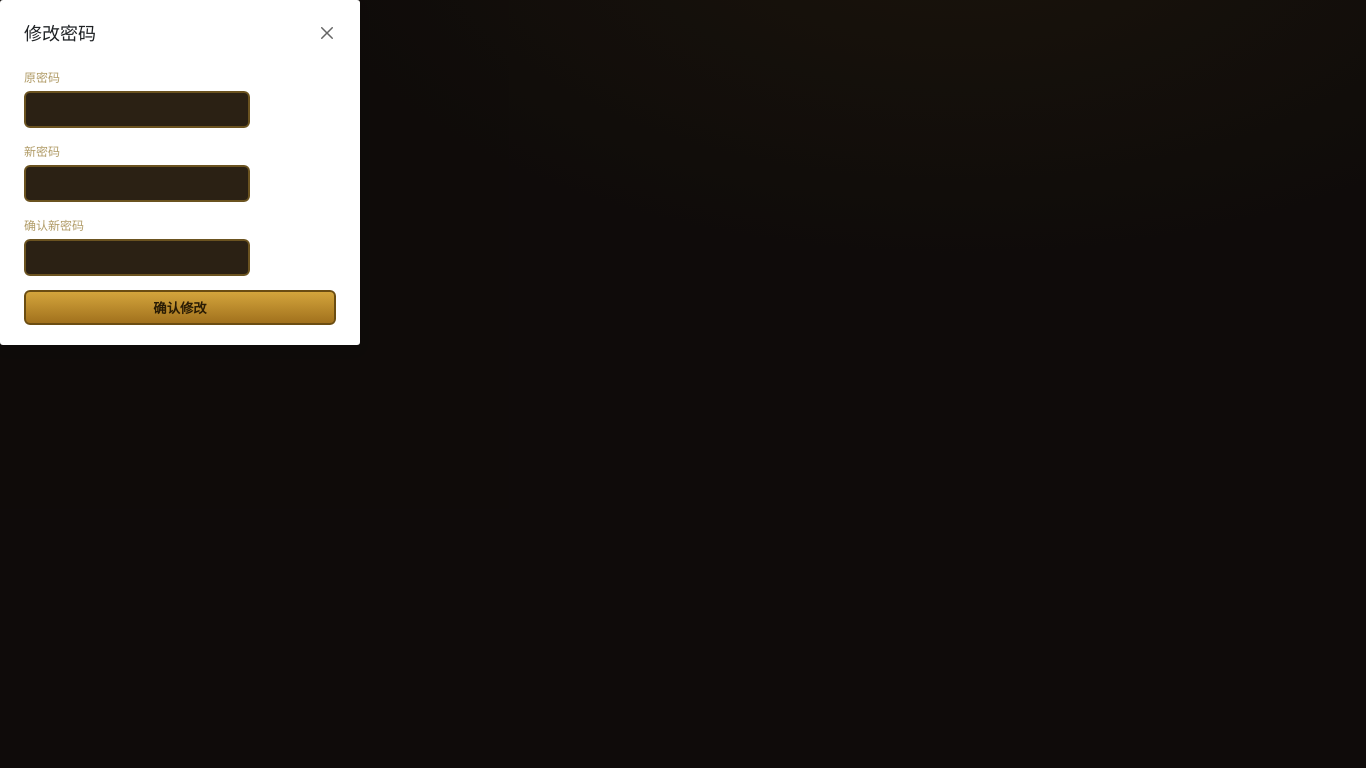
ChangePasswordModal › 两次密码不一致报错不调接口
Type "secret1" into the password field below "原密码".
click(137, 110); type("secret1")  # box [24, 91, 250, 128]
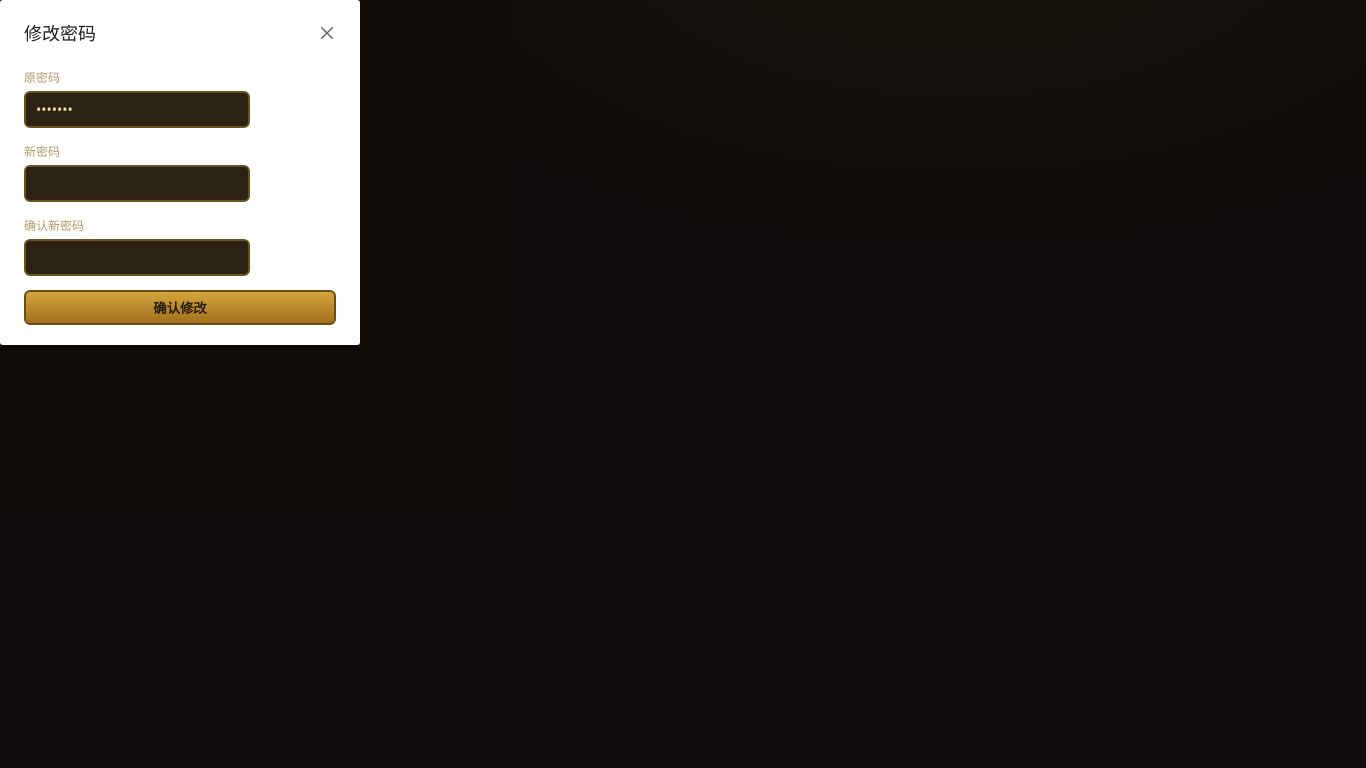
Type "abcdef" into the 2nd password field.
click(137, 184); type("abcdef")  # box [24, 165, 250, 202]
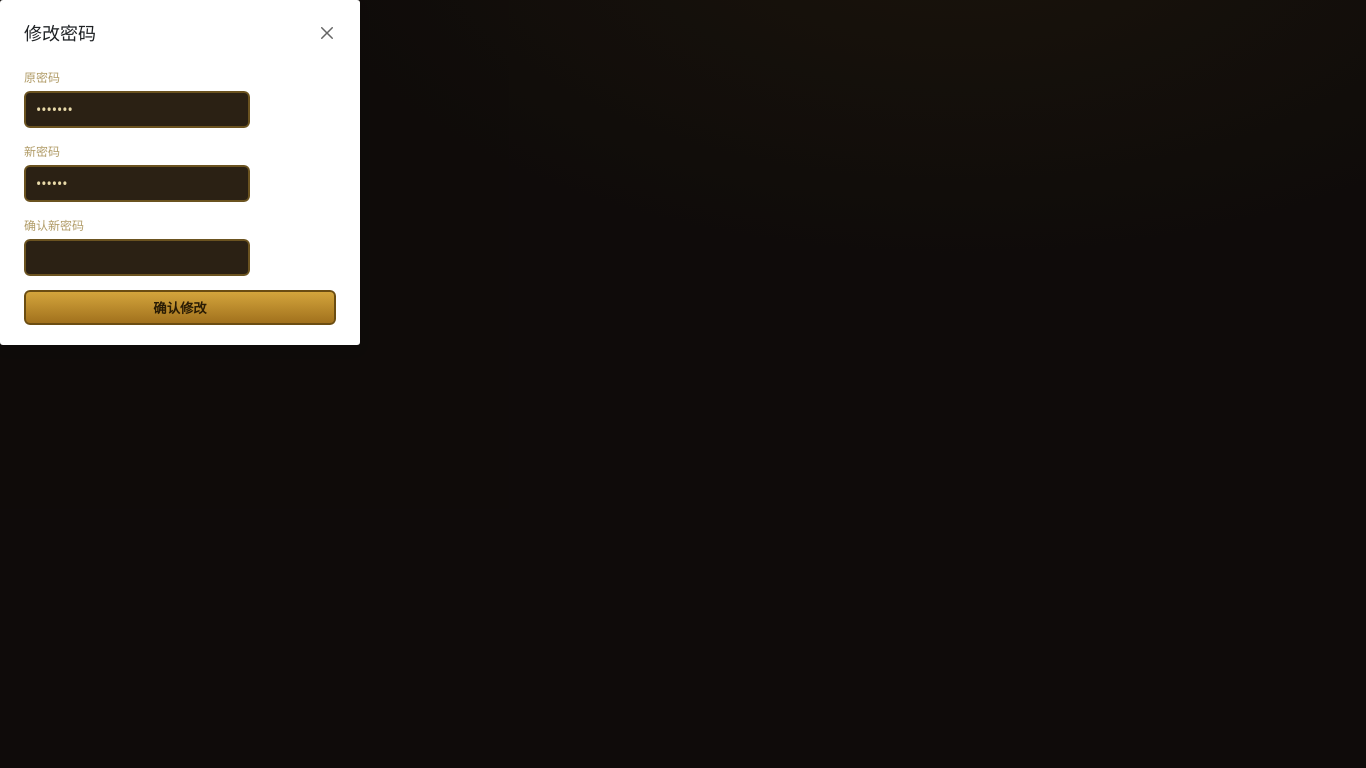
Type "abcdefg" into the password field below "确认新密码".
click(137, 258); type("abcdefg")  # box [24, 239, 250, 276]
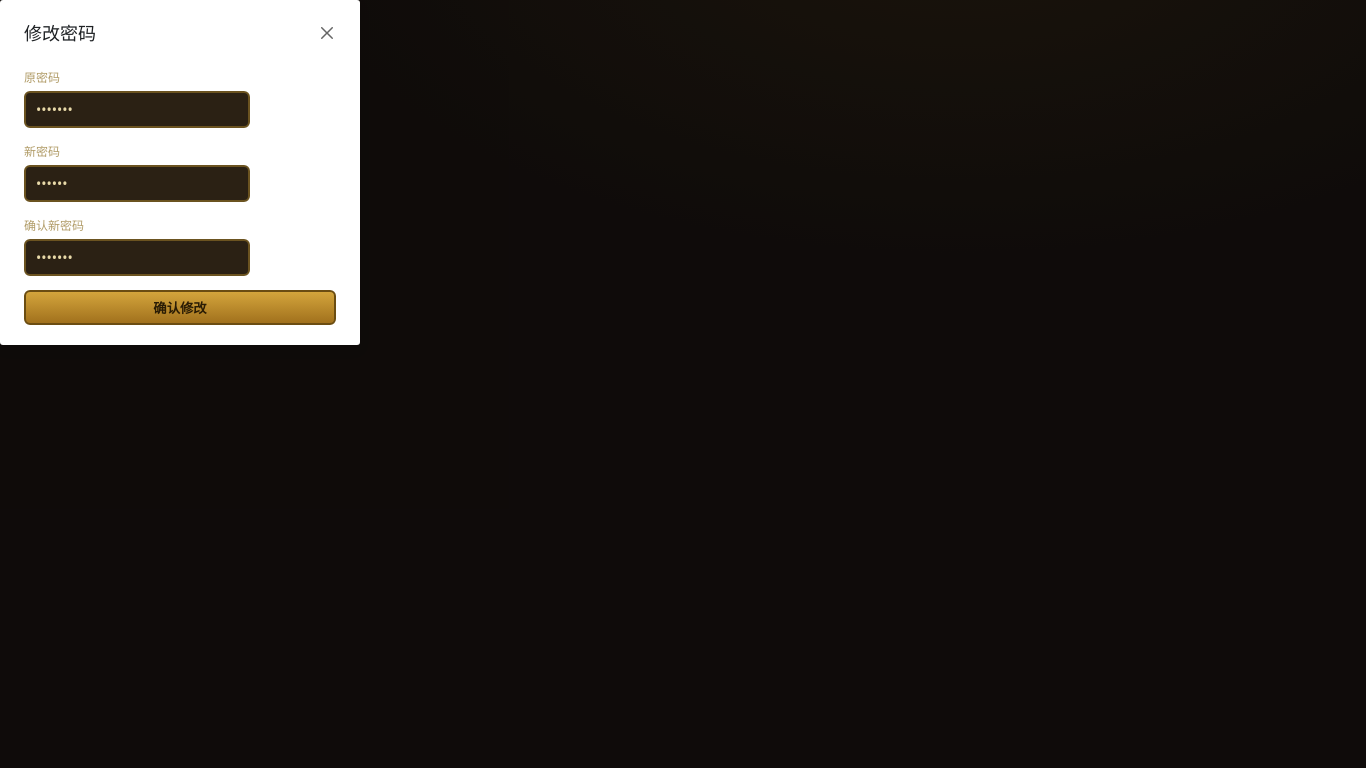
Click the button "确认修改".
click(180, 308)  # box [24, 290, 336, 325]
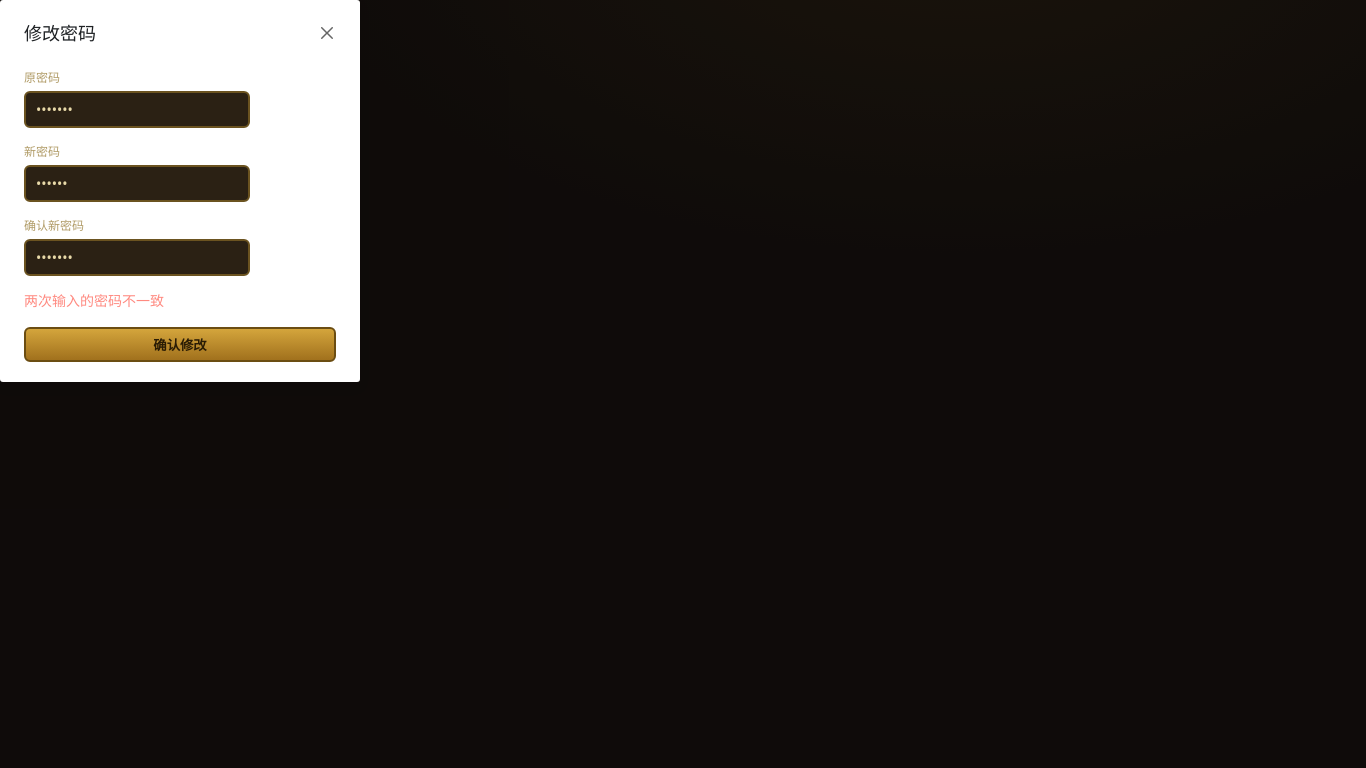
Expected: the text "两次输入的密码不一致" is shown, [24, 291, 164, 310]
